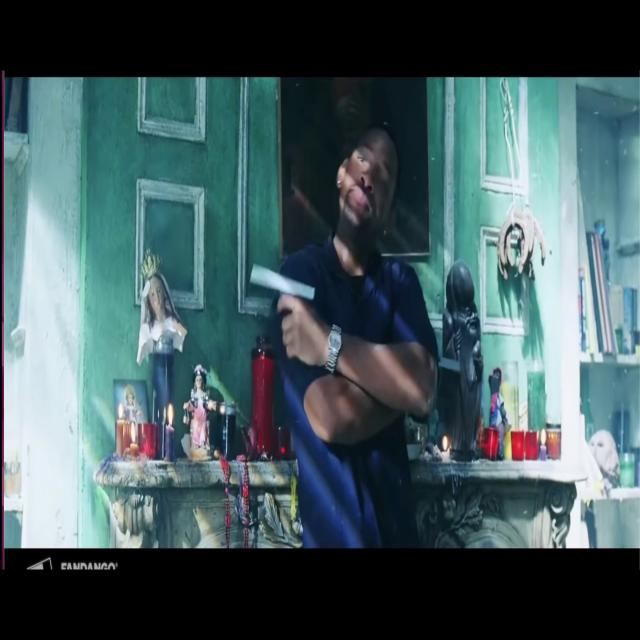weapons: (238, 249, 324, 359)
